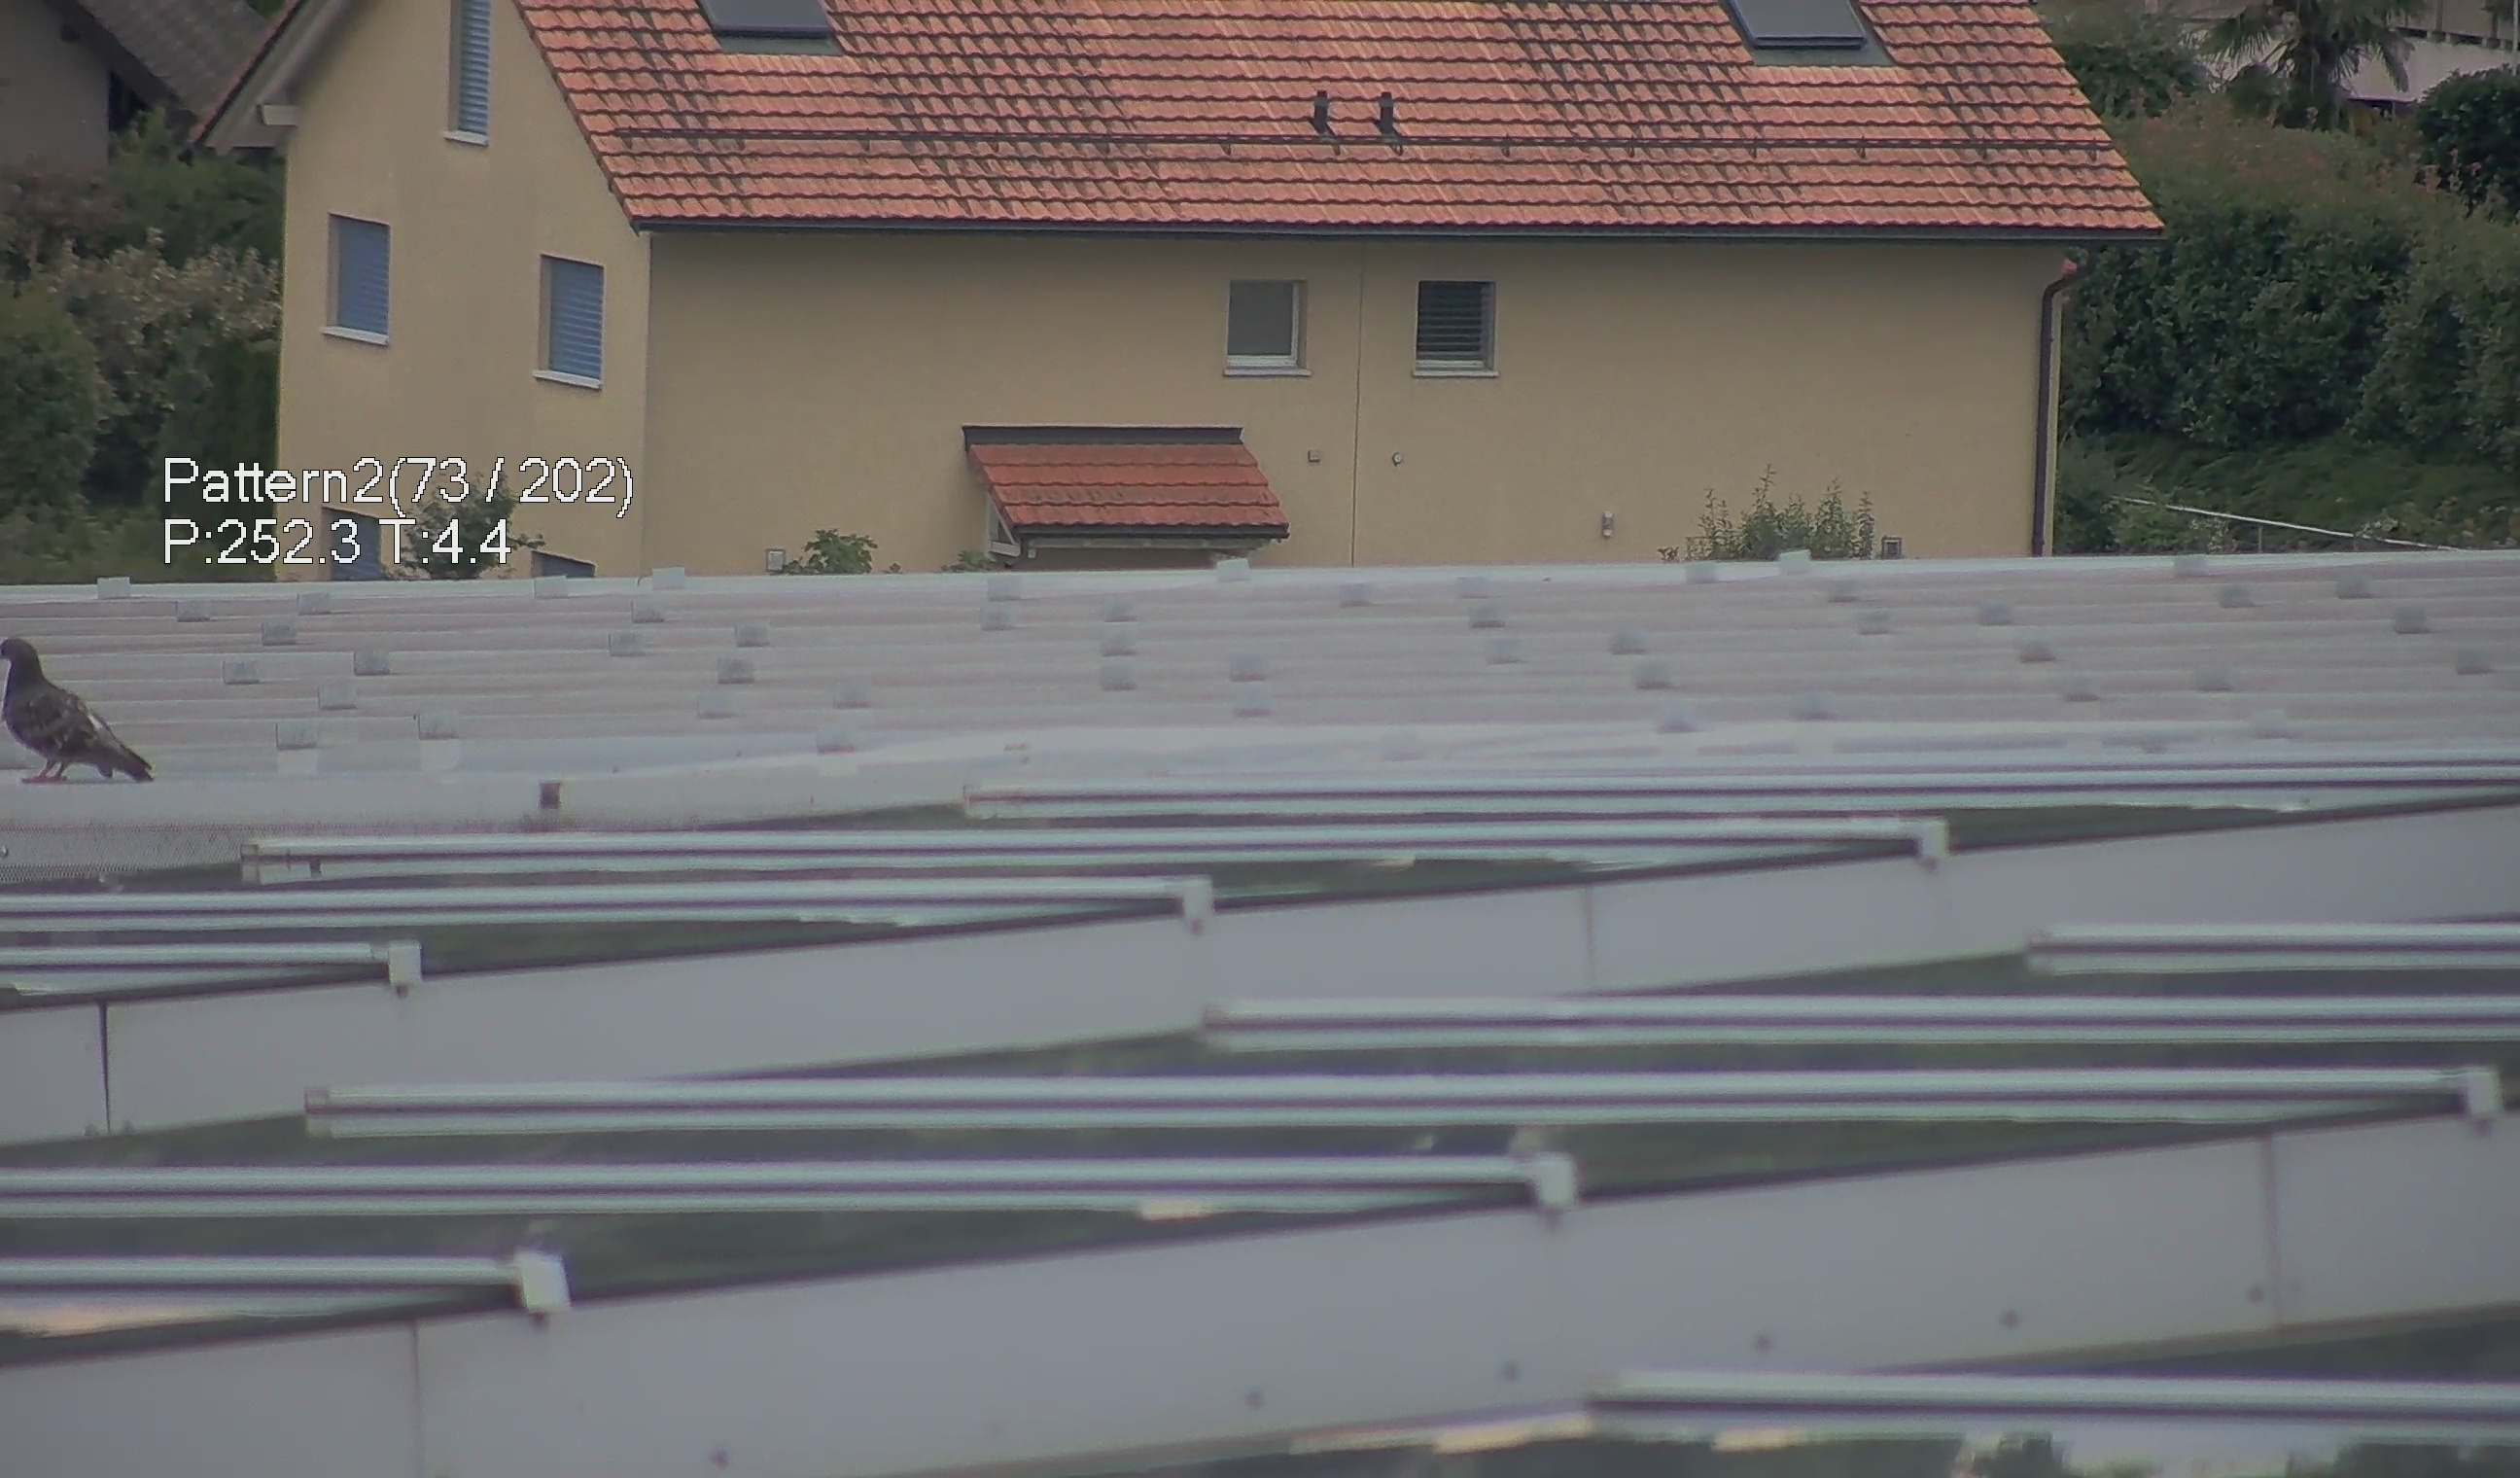Pigeon: (0, 626, 151, 795)
